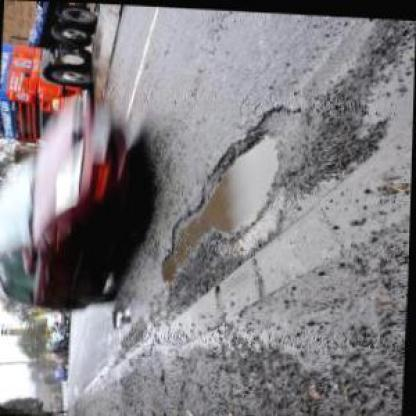pothole: (155, 118, 282, 287), (109, 301, 130, 327)
